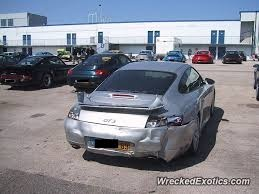Dent: (126, 109, 194, 161), (63, 112, 89, 150)
